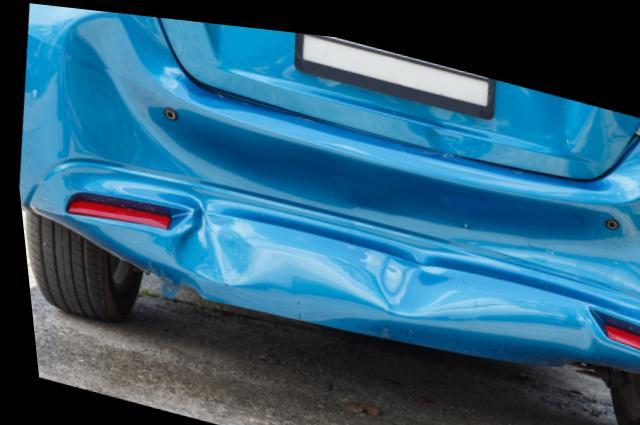dent: (58, 11, 640, 301), (329, 238, 447, 304), (168, 199, 252, 279)
